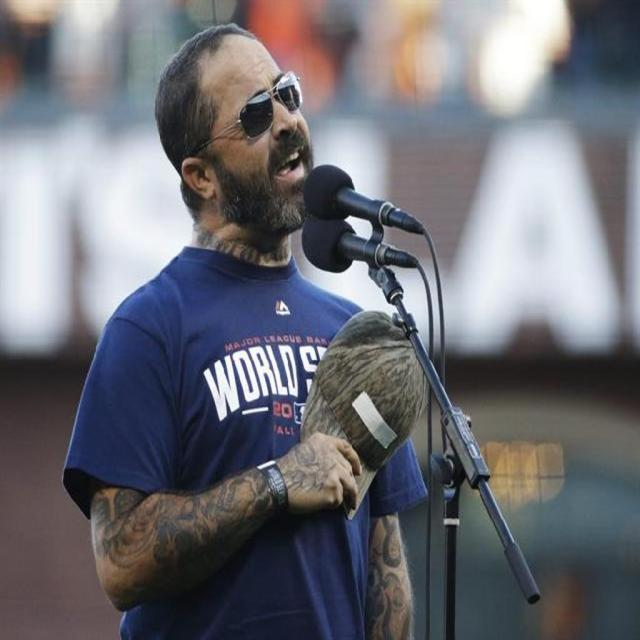Face: (196, 41, 326, 243)
